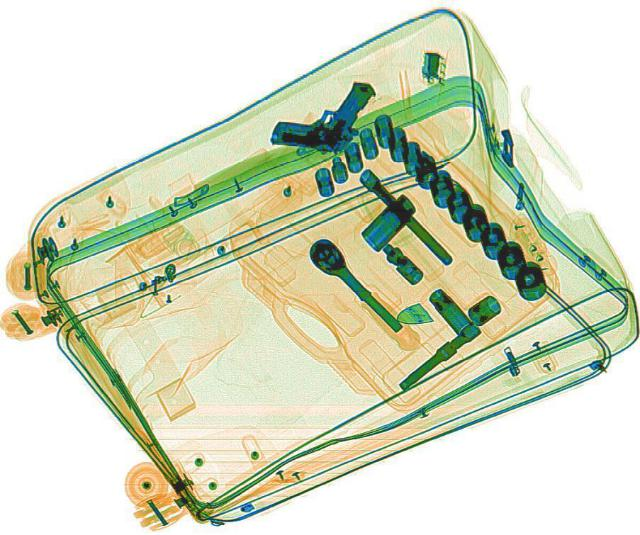Gun: (263, 62, 379, 164)
